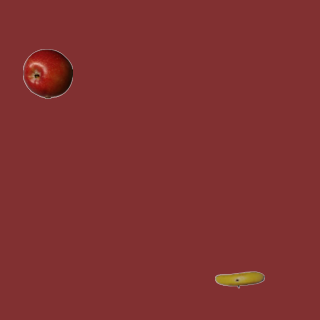Apple Braeburn: (22, 48, 72, 98)
Banana: (214, 254, 264, 304)
